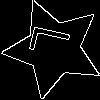L: (29, 23, 80, 61)
